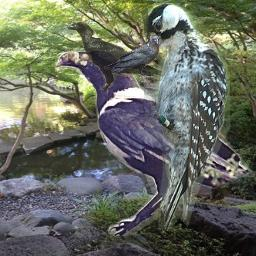Crow: (55, 48, 256, 236), (65, 21, 171, 93), (104, 36, 159, 86)
Woodpecker: (144, 3, 230, 231)
